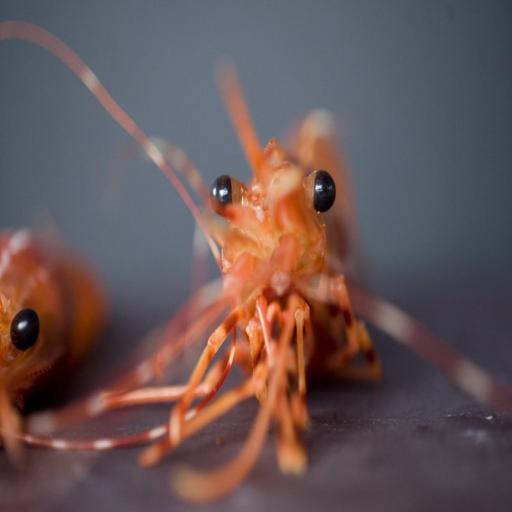Shrimp: (135, 130, 375, 494), (199, 100, 361, 292), (0, 215, 114, 486)
